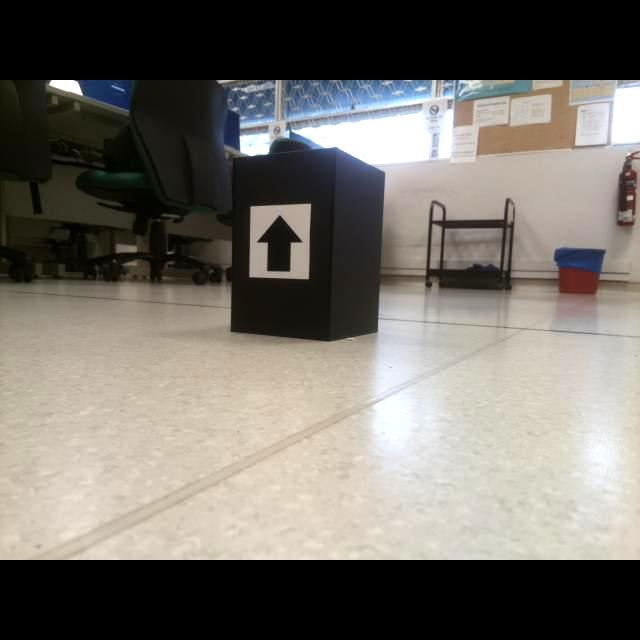UP: (255, 214, 304, 273)
